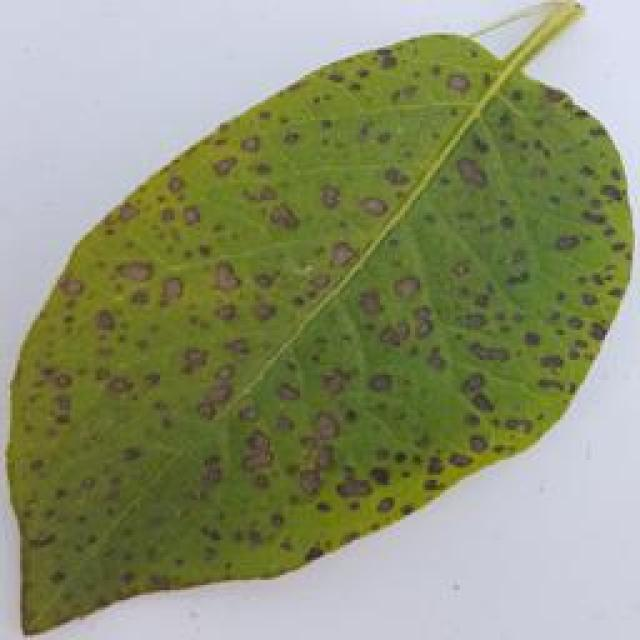Potato_Early_Blight: (1, 5, 631, 632)
